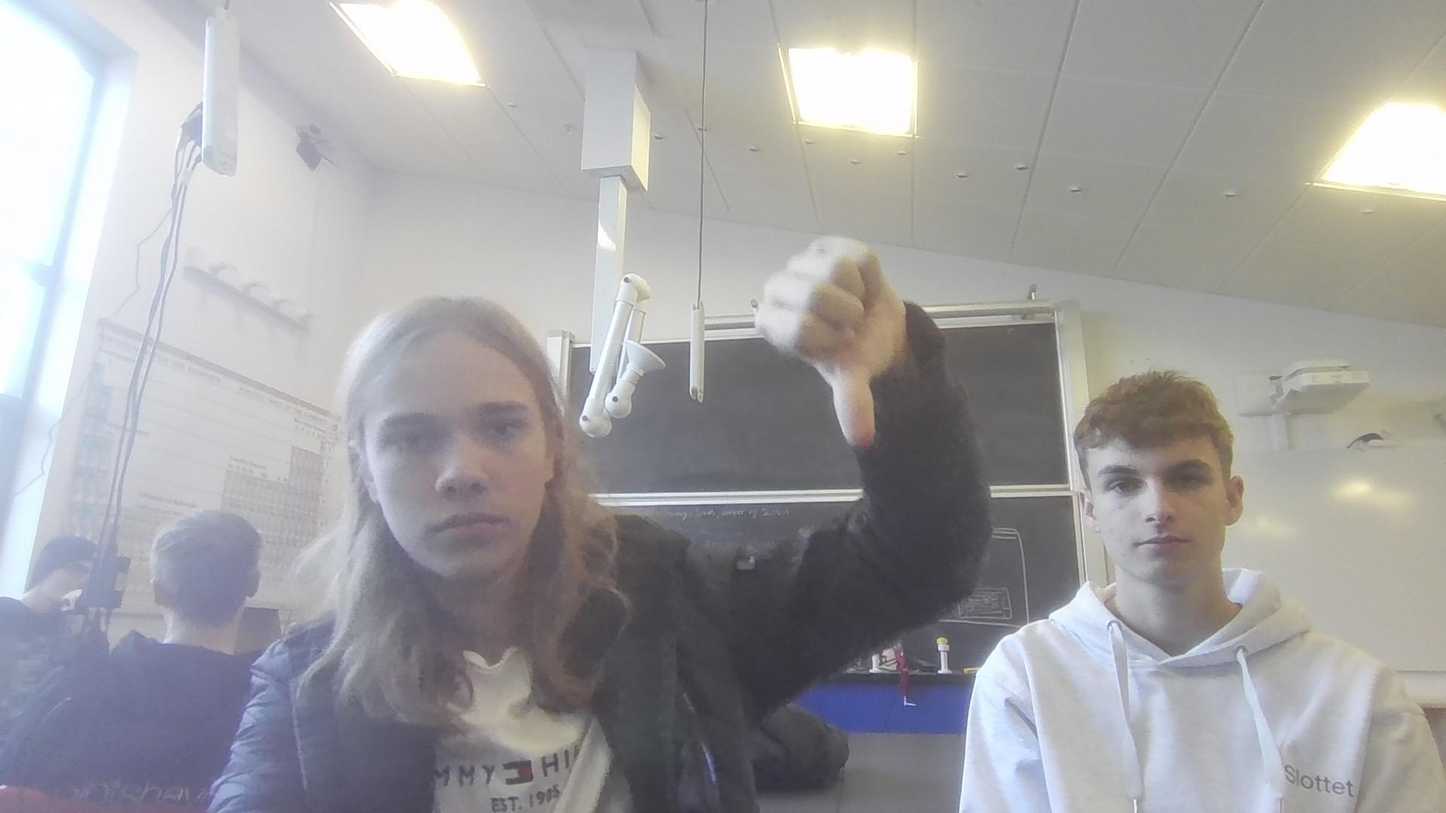thumbs down: (747, 230, 923, 456)
